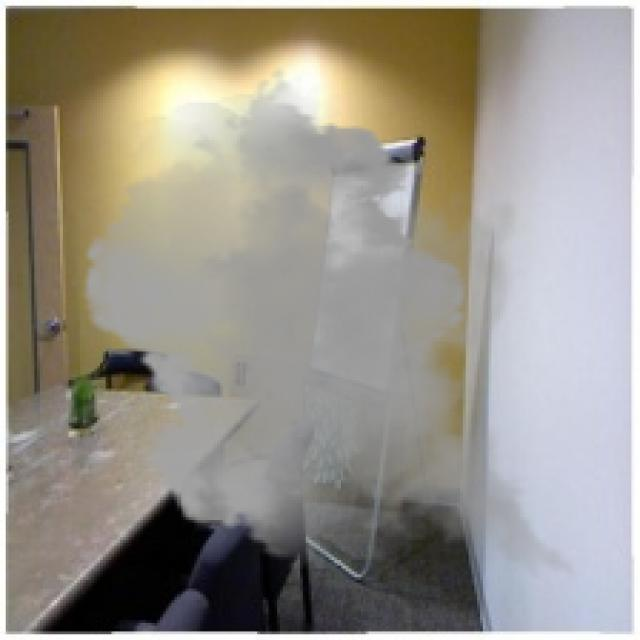Smoke: (68, 66, 603, 588)
